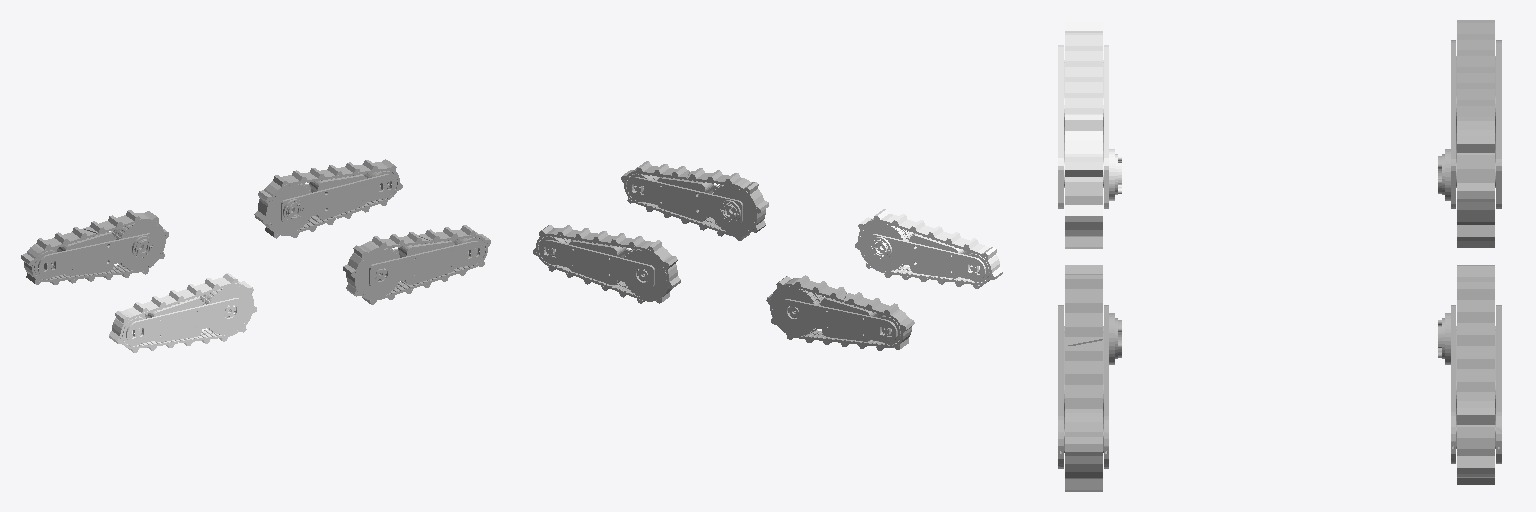
robot.urdf — osp_rviz:
<?xml version="1.0" encoding="utf-8"?>
<robot
  name="osp_rviz">
  <link
    name="base_link">
    <inertial>
      <origin
        xyz="-3.69023833574921E-06 0.000135303198174048 0.00484123488485293"
        rpy="0 0 0" />
      <mass
        value="15.8910309592199" />
      <inertia
        ixx="0.0613158294960087"
        ixy="1.80957428706548E-07"
        ixz="-6.43751720932636E-07"
        iyy="0.181610840835921"
        iyz="-4.36641485741092E-08"
        izz="0.181013569345721" />
    </inertial>
    <visual>
      <origin
        xyz="0 0 0"
        rpy="0 0 0" />
      <geometry>
        <mesh
          filename="package://osp_rviz/meshes/base_link.STL" />
      </geometry>
      <material
        name="">
        <color
          rgba="0.898039215686275 0.917647058823529 0.929411764705882 1" />
      </material>
    </visual>
    <collision>
      <origin
        xyz="0 0 0"
        rpy="0 0 0" />
      <geometry>
        <mesh
          filename="package://osp_rviz/meshes/base_link.STL" />
      </geometry>
    </collision>
  </link>
  <link
    name="flipper_1">
    <inertial>
      <origin
        xyz="0.10322 0.00053259 -0.0011031"
        rpy="0 0 0" />
      <mass
        value="2.5754" />
      <inertia
        ixx="0.0025716"
        ixy="-7.2101E-08"
        ixz="0.00010166"
        iyy="0.014521"
        iyz="5.5498E-09"
        izz="0.0123" />
    </inertial>
    <visual>
      <origin
        xyz="0 0 0"
        rpy="0 0 0" />
      <geometry>
        <mesh
          filename="package://osp_rviz/meshes/flipper_1.STL" />
      </geometry>
      <material
        name="">
        <color
          rgba="0.75294 0.75294 0.75294 1" />
      </material>
    </visual>
    <collision>
      <origin
        xyz="0 0 0"
        rpy="0 0 0" />
      <geometry>
        <mesh
          filename="package://osp_rviz/meshes/flipper_1.STL" />
      </geometry>
    </collision>
  </link>
  <joint
    name="f1"
    type="continuous">
    <origin
      xyz="0.208 -0.2106 0"
      rpy="0 0 0" />
    <parent
      link="base_link" />
    <child
      link="flipper_1" />
    <axis
      xyz="0 1 0" />
  </joint>
  <link
    name="flipper_2">
    <inertial>
      <origin
        xyz="-0.103171888196012 -0.000532593896165057 0.00328726586507427"
        rpy="0 0 0" />
      <mass
        value="2.57539343377115" />
      <inertia
        ixx="0.00258050936304685"
        ixy="-7.22720960557722E-08"
        ixz="0.000312013925940737"
        iyy="0.0145214072961414"
        iyz="-2.47872263269941E-09"
        izz="0.0122906615453118" />
    </inertial>
    <visual>
      <origin
        xyz="0 0 0"
        rpy="0 0 0" />
      <geometry>
        <mesh
          filename="package://osp_rviz/meshes/flipper_2.STL" />
      </geometry>
      <material
        name="">
        <color
          rgba="0.752941176470588 0.752941176470588 0.752941176470588 1" />
      </material>
    </visual>
    <collision>
      <origin
        xyz="0 0 0"
        rpy="0 0 0" />
      <geometry>
        <mesh
          filename="package://osp_rviz/meshes/flipper_2.STL" />
      </geometry>
    </collision>
  </link>
  <joint
    name="f2"
    type="continuous">
    <origin
      xyz="-0.208 0.2106 0"
      rpy="0 0 0" />
    <parent
      link="base_link" />
    <child
      link="flipper_2" />
    <axis
      xyz="0 1 0" />
  </joint>
  <link
    name="flipper_3">
    <inertial>
      <origin
        xyz="0.103218350486905 -0.000532593896164557 0.00110306552865433"
        rpy="0 0 0" />
      <mass
        value="2.57539343377115" />
      <inertia
        ixx="0.00257155613346375"
        ixy="7.21013126185279E-08"
        ixz="-0.000101662716304273"
        iyy="0.0145214072961415"
        iyz="5.54983250278453E-09"
        izz="0.0122996147748949" />
    </inertial>
    <visual>
      <origin
        xyz="0 0 0"
        rpy="0 0 0" />
      <geometry>
        <mesh
          filename="package://osp_rviz/meshes/flipper_3.STL" />
      </geometry>
      <material
        name="">
        <color
          rgba="0.752941176470588 0.752941176470588 0.752941176470588 1" />
      </material>
    </visual>
    <collision>
      <origin
        xyz="0 0 0"
        rpy="0 0 0" />
      <geometry>
        <mesh
          filename="package://osp_rviz/meshes/flipper_3.STL" />
      </geometry>
    </collision>
  </link>
  <joint
    name="f3"
    type="continuous">
    <origin
      xyz="0.208 0.2106 0"
      rpy="0 0 0" />
    <parent
      link="base_link" />
    <child
      link="flipper_3" />
    <axis
      xyz="0 1 0" />
  </joint>
  <link
    name="flipper_4">
    <inertial>
      <origin
        xyz="0 0 0"
        rpy="0 0 0" />
      <mass
        value="0" />
      <inertia
        ixx="0"
        ixy="0"
        ixz="0"
        iyy="0"
        iyz="0"
        izz="0" />
    </inertial>
    <visual>
      <origin
        xyz="0 0 0"
        rpy="0 0 0" />
      <geometry>
        <mesh
          filename="package://osp_rviz/meshes/flipper_4.STL" />
      </geometry>
      <material
        name="">
        <color
          rgba="1 1 1 1" />
      </material>
    </visual>
    <collision>
      <origin
        xyz="0 0 0"
        rpy="0 0 0" />
      <geometry>
        <mesh
          filename="package://osp_rviz/meshes/flipper_4.STL" />
      </geometry>
    </collision>
  </link>
  <joint
    name="f4"
    type="continuous">
    <origin
      xyz="-0.208 -0.210599999999999 0"
      rpy="0 0 0" />
    <parent
      link="base_link" />
    <child
      link="flipper_4" />
    <axis
      xyz="0 1 0" />
  </joint>
</robot>

--- Render facts (derived) ---
Views: 3 orthographic renders of the robot side by side, from view 1: azimuth 30°, elevation 25°; view 2: azimuth 150°, elevation 25°; view 3: azimuth 270°, elevation 25°.
Model osp_rviz with 5 links and 4 joints (4 continuous), rooted at base_link, posed all joints at 0.
Visible links, largest first — view 1: flipper_3, flipper_1, flipper_2, flipper_4; view 2: flipper_3, flipper_2, flipper_1, flipper_4; view 3: flipper_2, flipper_4, flipper_1, flipper_3.
Boxes of the visible links, <box> form: flipper_3: <box>254,159,402,238</box>; flipper_1: <box>343,225,490,304</box>; flipper_2: <box>21,210,168,284</box>; flipper_4: <box>109,273,256,352</box>; flipper_3: <box>533,225,680,303</box>; flipper_2: <box>766,275,914,350</box>; flipper_1: <box>621,161,768,240</box>; flipper_4: <box>855,209,1002,288</box>; flipper_2: <box>1438,20,1501,247</box>; flipper_4: <box>1058,22,1121,248</box>; flipper_1: <box>1058,265,1121,491</box>; flipper_3: <box>1438,265,1501,484</box>.
Size in the robot's own frame: 1.03 by 0.4762 by 0.159 metres.
4 mesh visuals loaded from 5 distinct referenced files (4 binary STL); not drawn: 1 (reference not matched to a file when rendering).